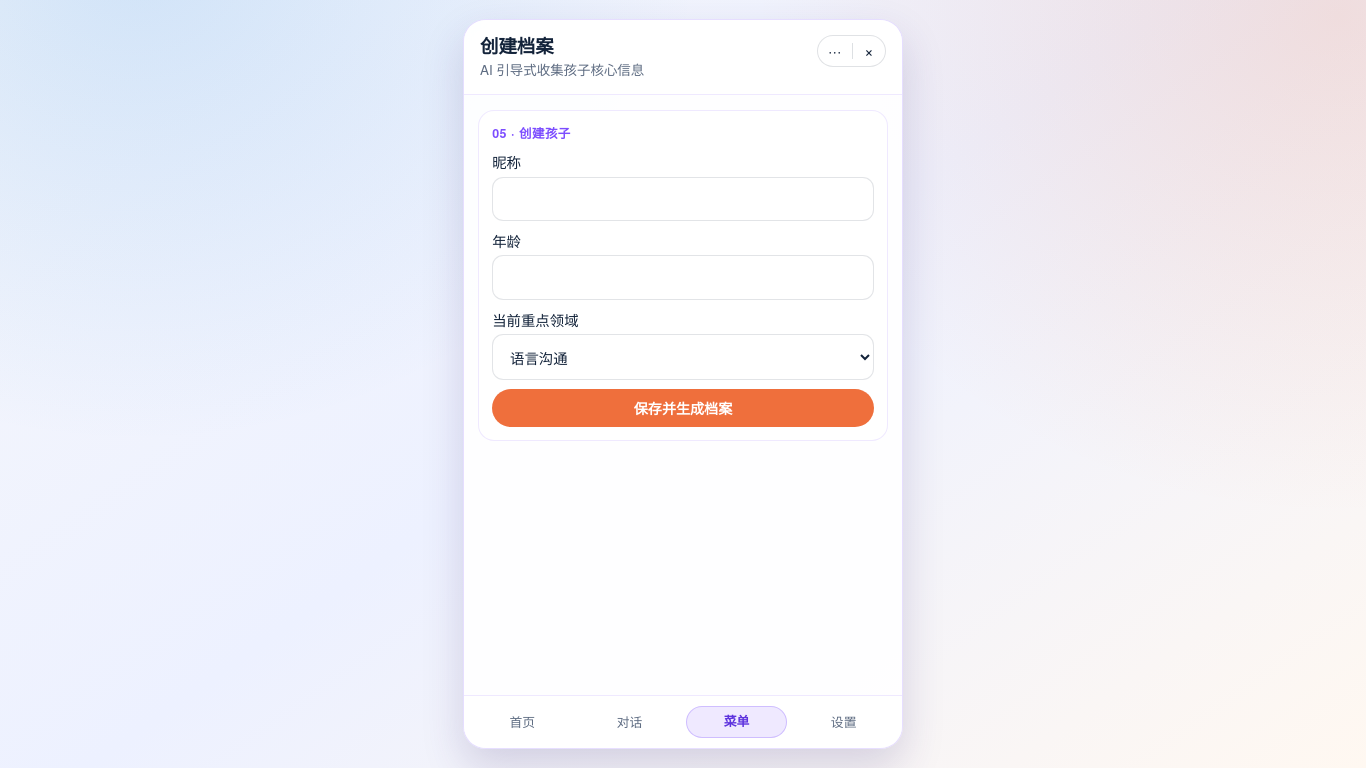
it: CreateChildPage › submits to createChildProfile and shows success state
The image size is (1366, 768).
Type "乐乐" into the field labelled "昵称".
click(683, 199); type("乐乐")  # box [492,177,874,221]
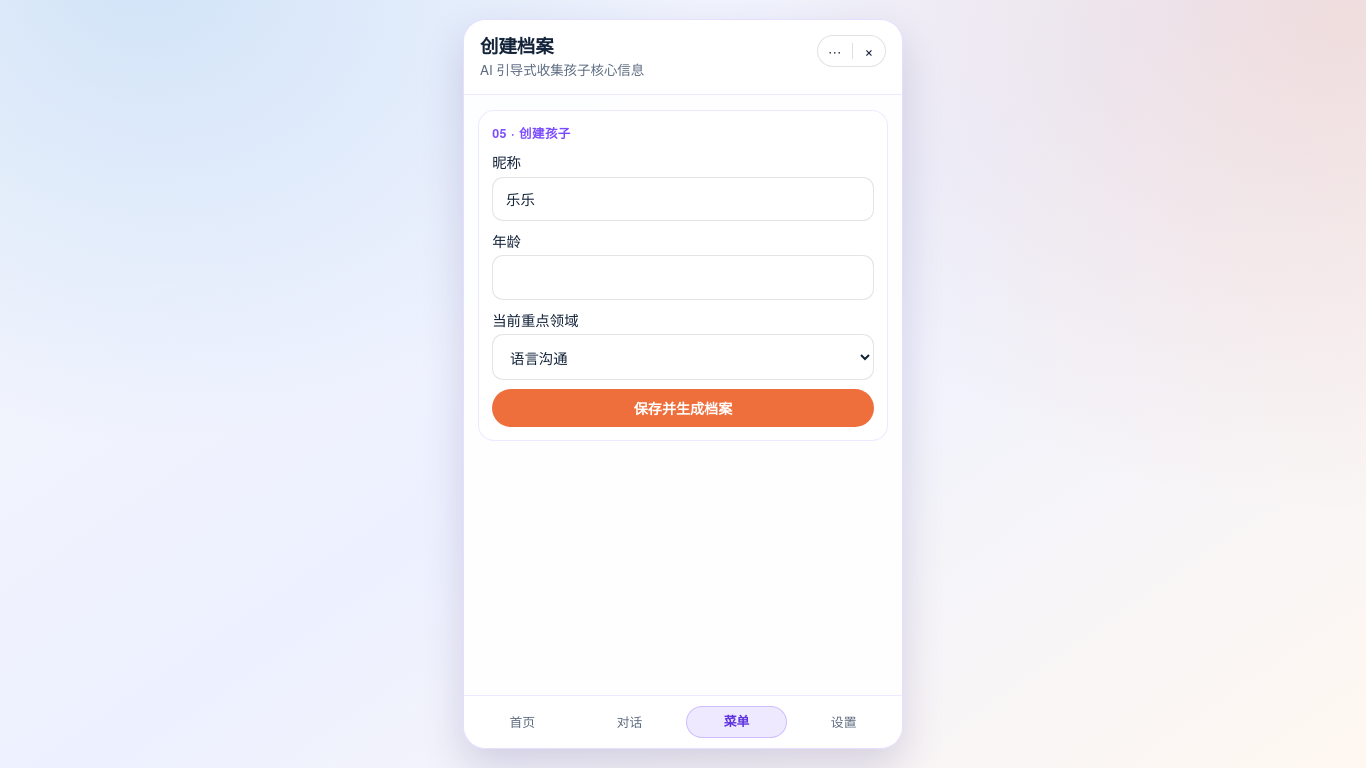
Type "5" into the field labelled "年龄".
click(683, 278); type("5")  # box [492,255,874,300]
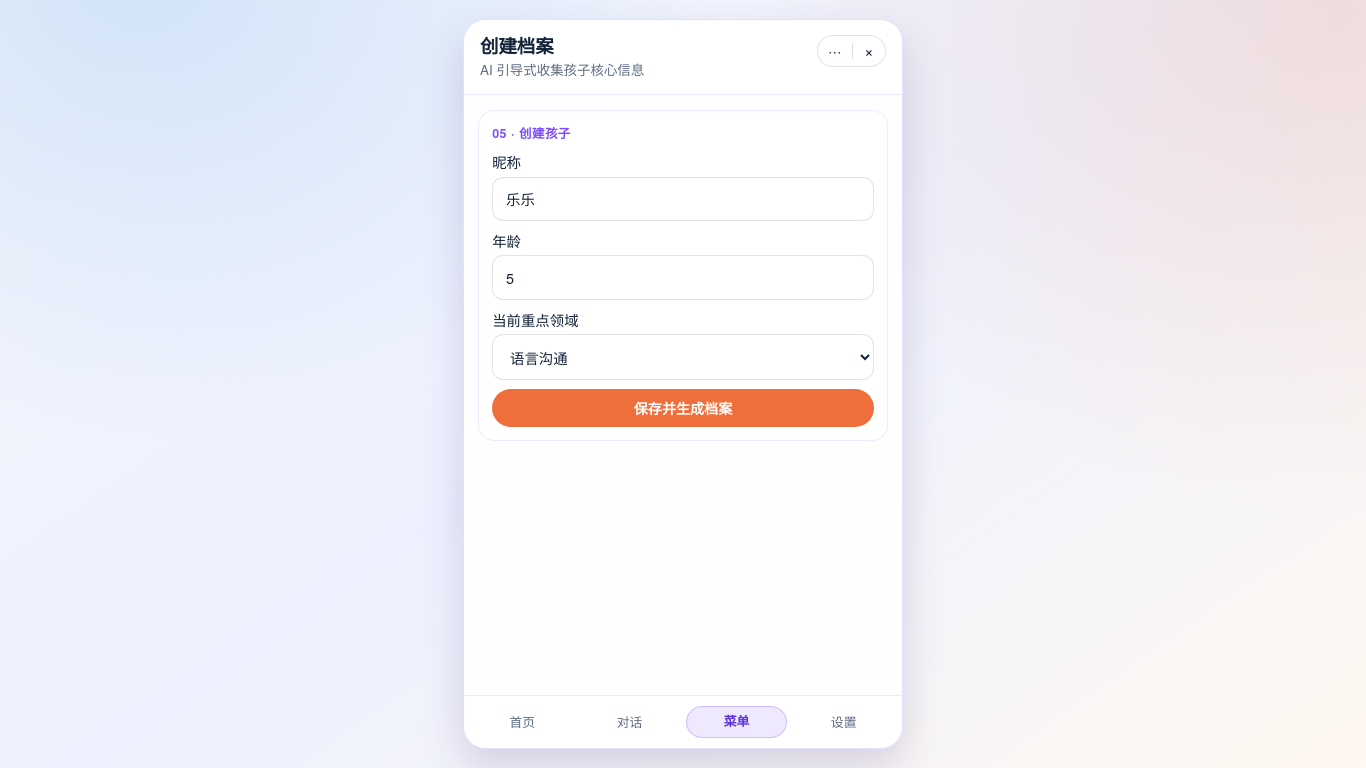
Click the button "保存并生成档案".
click(683, 408)  # box [492,389,874,427]
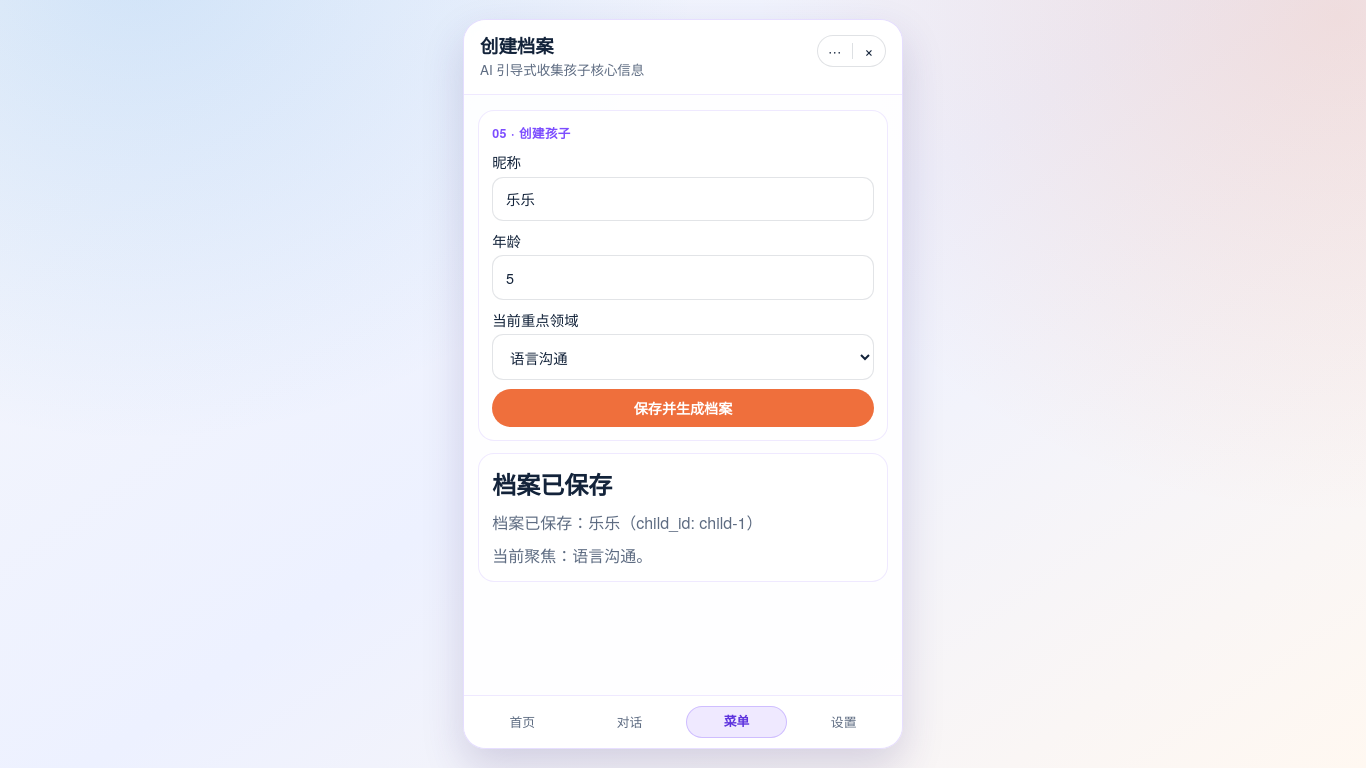
expect the heading "档案已保存" is shown: met, box [492,468,612,502]
